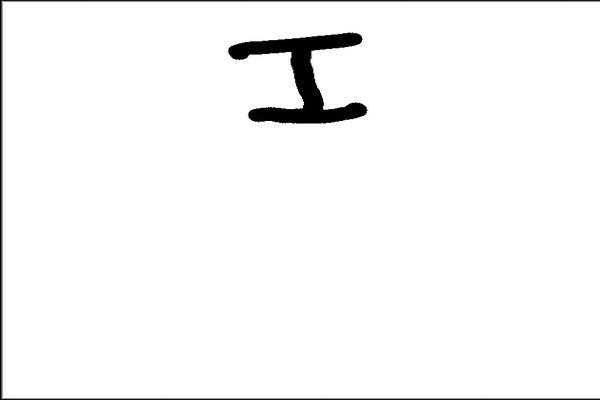i: (210, 30, 376, 130)
